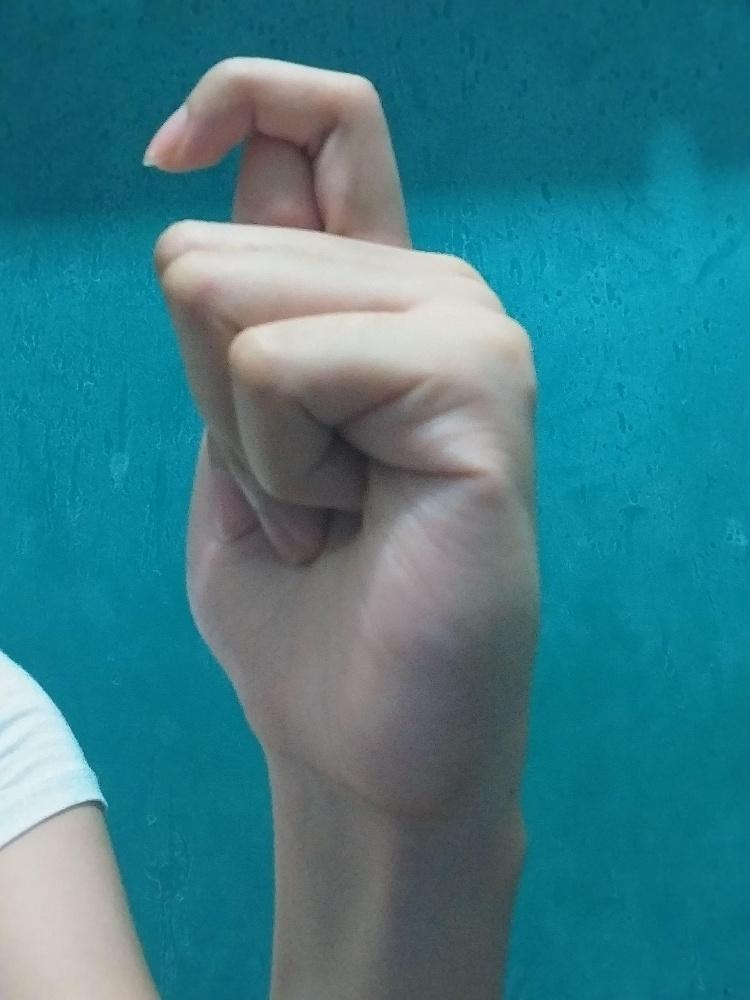t: (139, 55, 545, 817)
